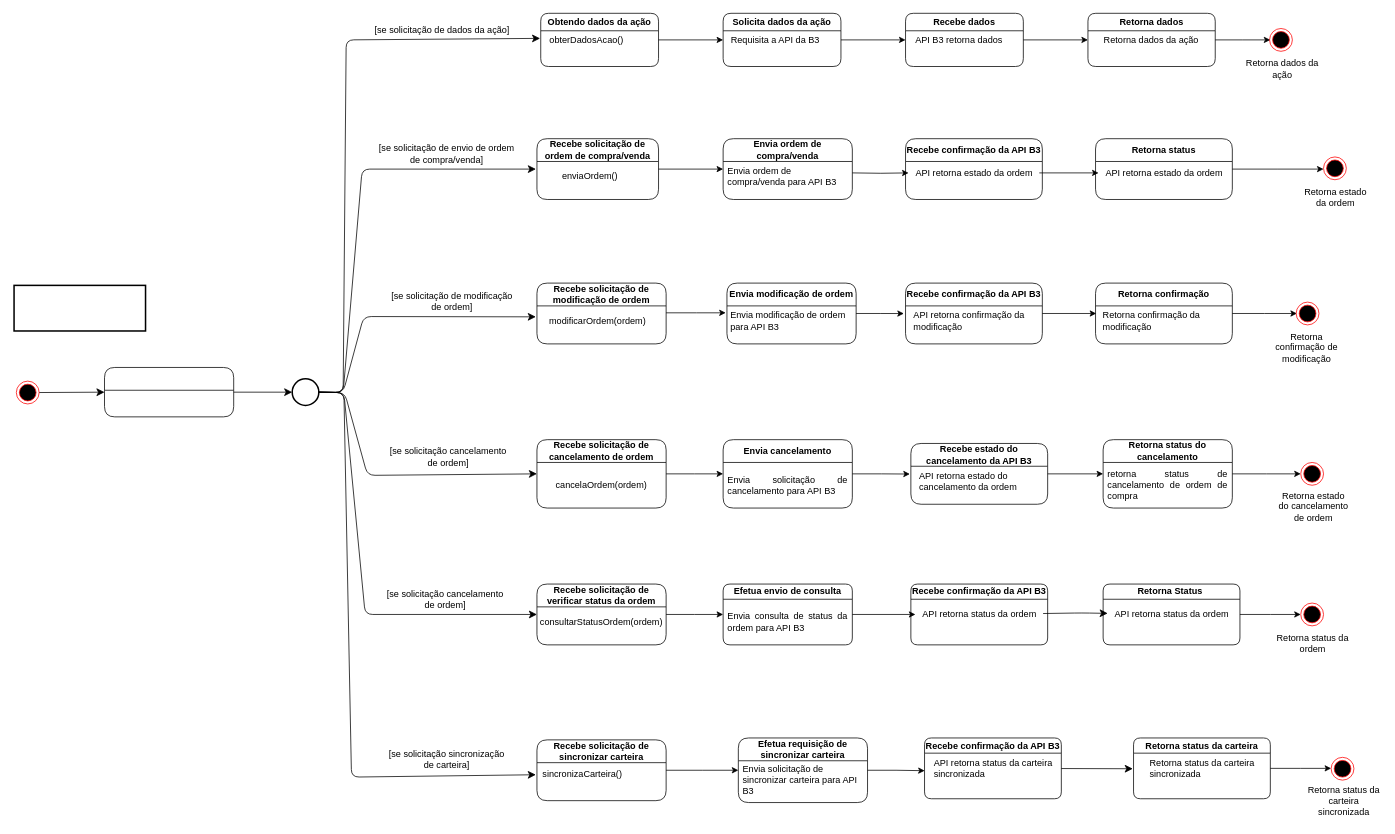
Some shapes in this 1395 by 834 pixel diagram are drawn without their labels. Each missing label, with the centre of its shape:
"Classe APIB3" belongs at (79,307).
"Esperando Solicitação" belongs at (169,392).
